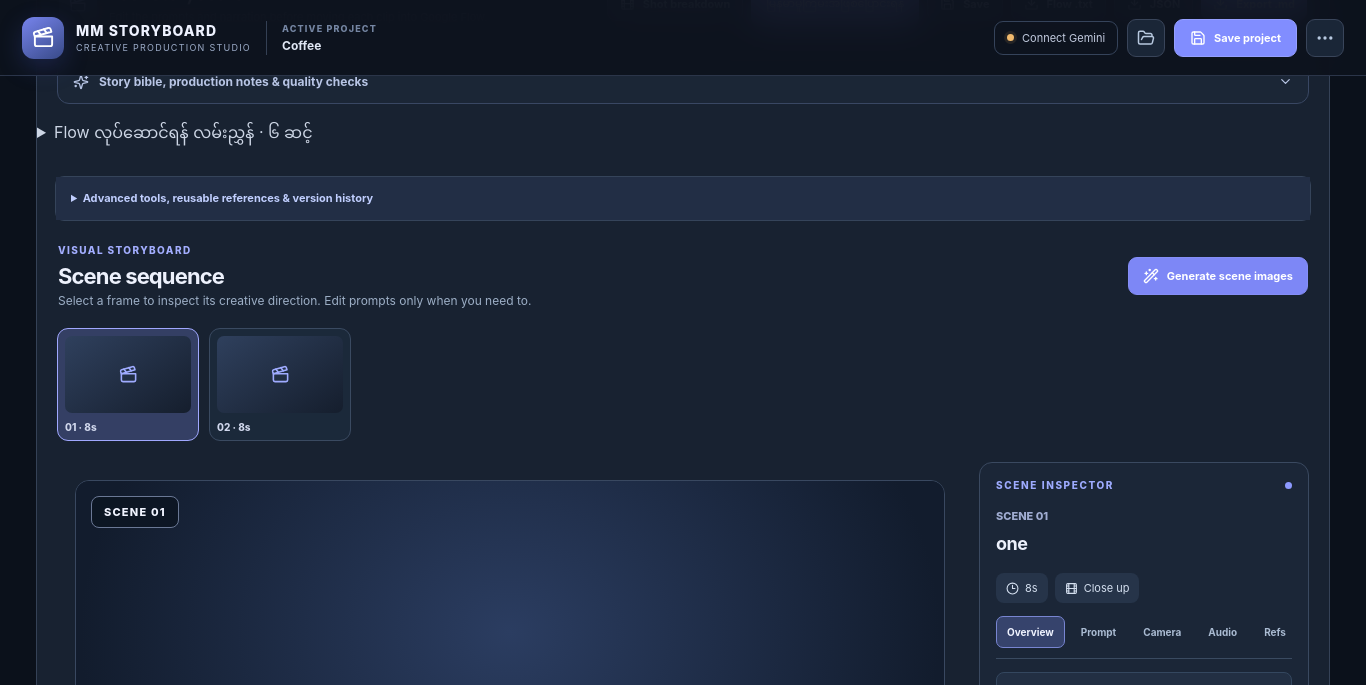
Test: editor workflow › disables locked fields, approves a scene, and keeps feedback with the frame
This screenshot has width=1366, height=685.
(page scrolled)
Click the button named "Select storyboard scene 2" at coordinates (280, 385), box [209,328,351,441]
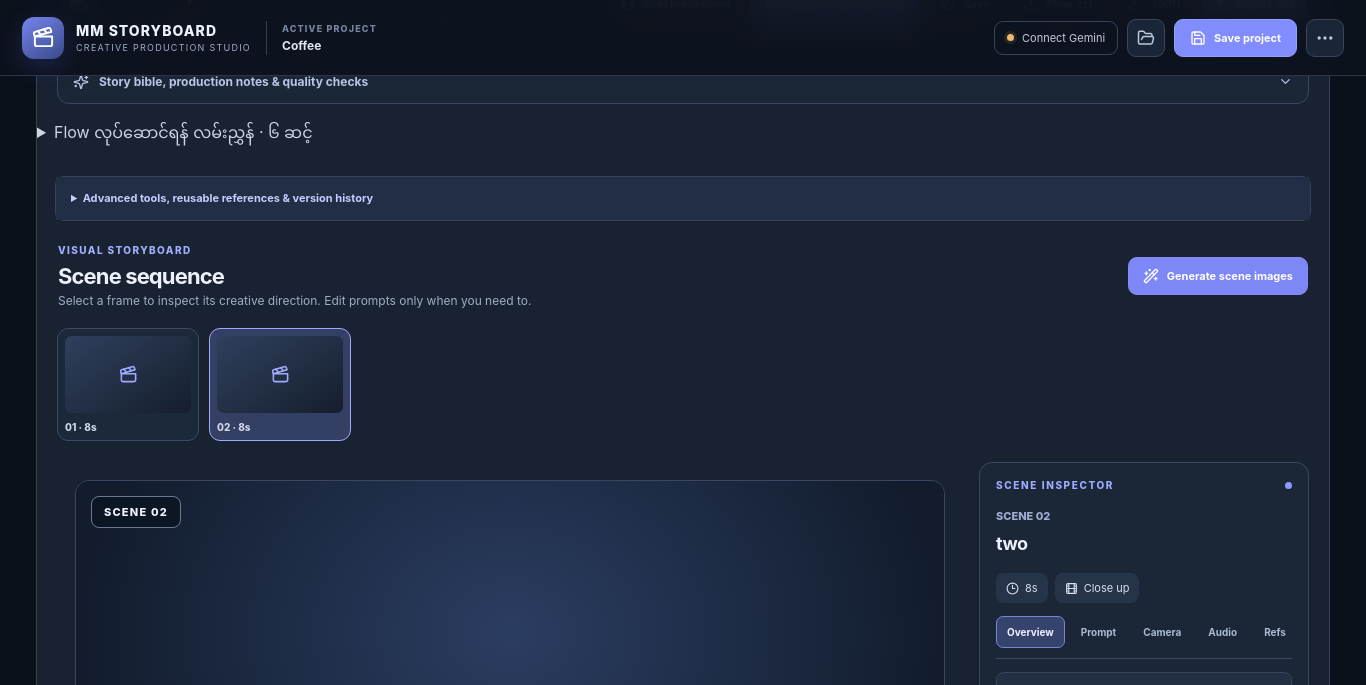
Click the button named "Select storyboard scene 1" at coordinates (128, 385), box [57,328,199,441]
(page scrolled)
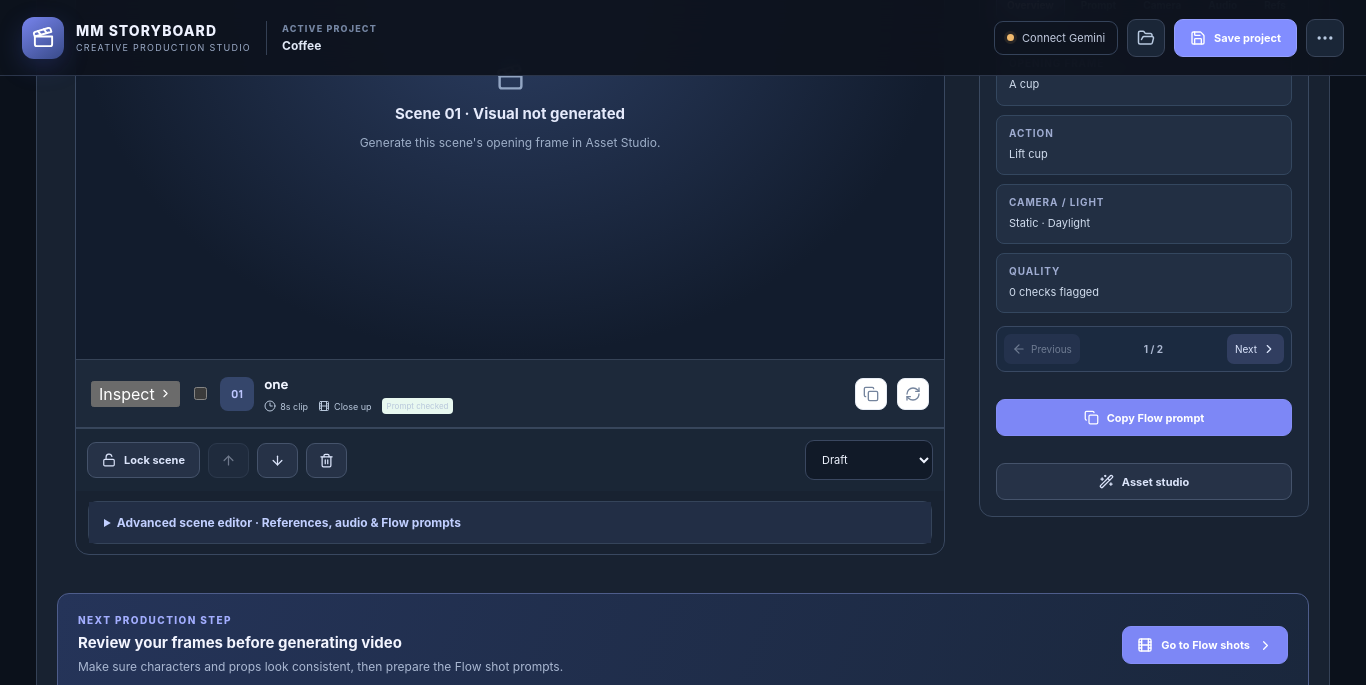
Replace the text in the field named "Scene title" with "Better hook" at coordinates (514, 385), box [264,375,764,394]
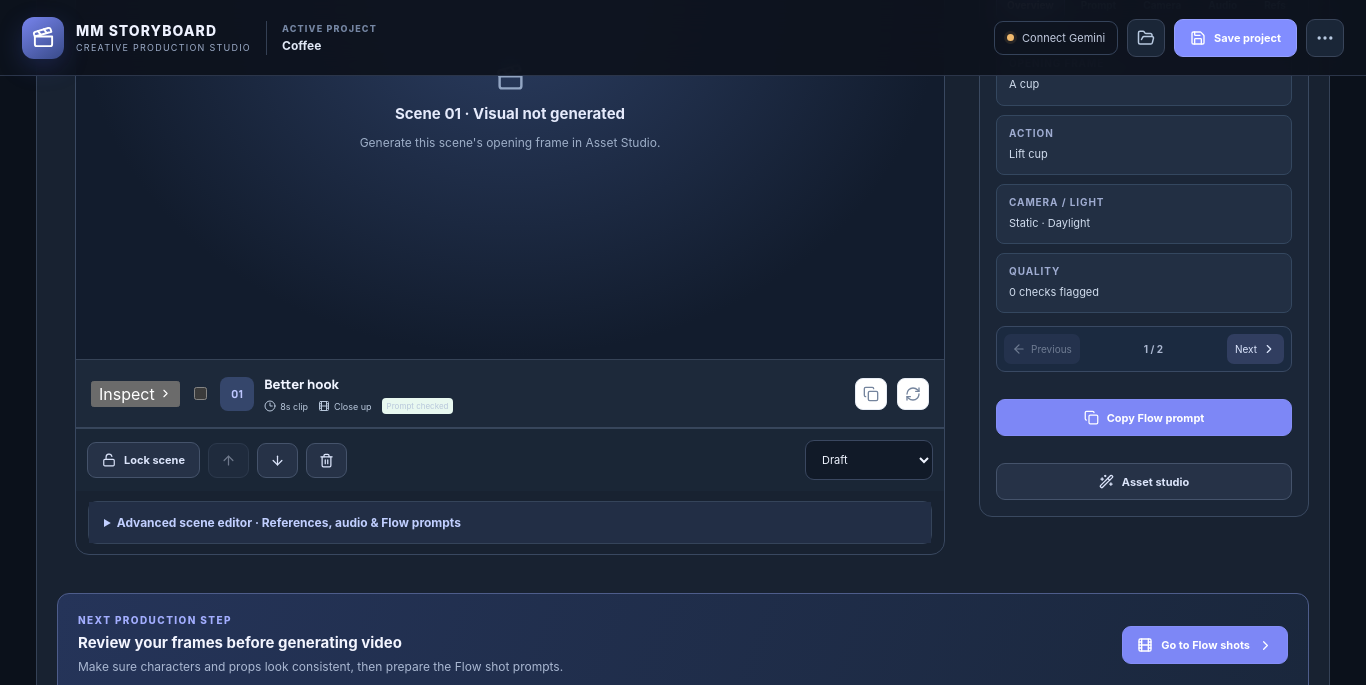
Select "Approved · lock" in the dropdown named "Review status scene 1" at coordinates (869, 460), box [805,440,933,480]
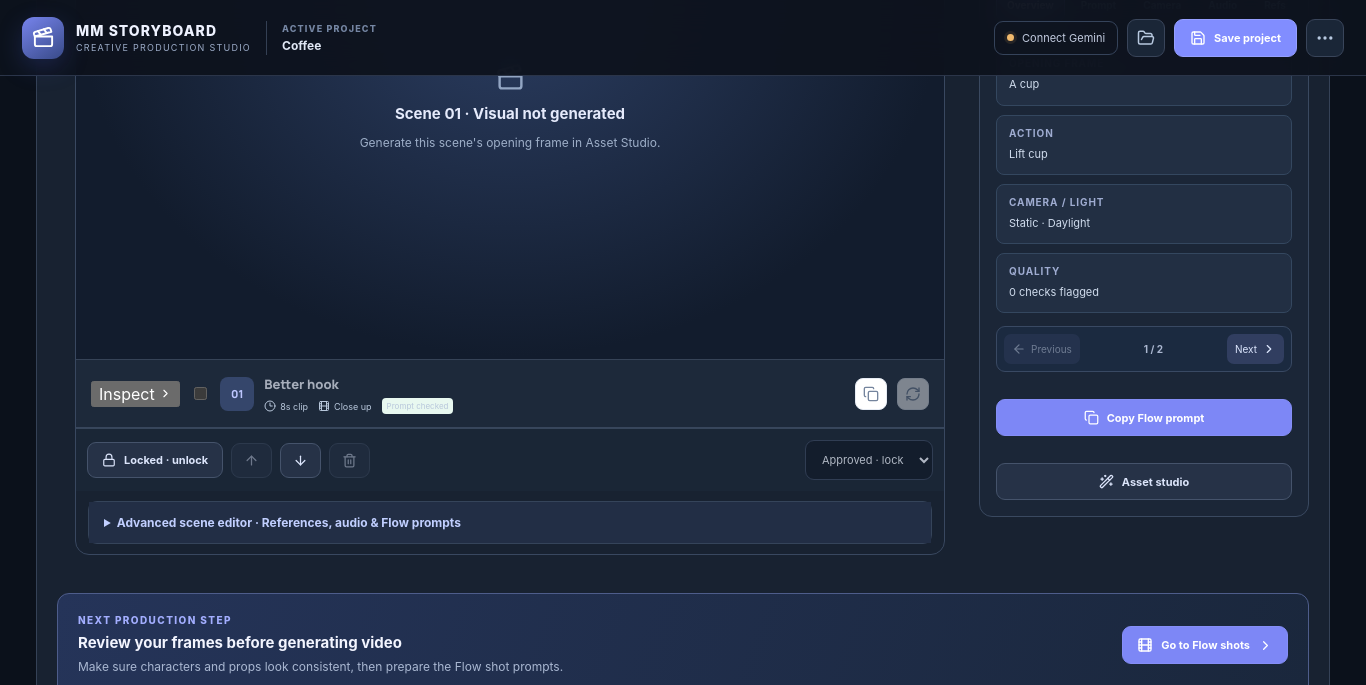
Check: the number of buttons "Locked · unlock" is 1, box [87,442,223,478]
Check: the field named "Scene title" is disabled, box [264,375,764,394]
